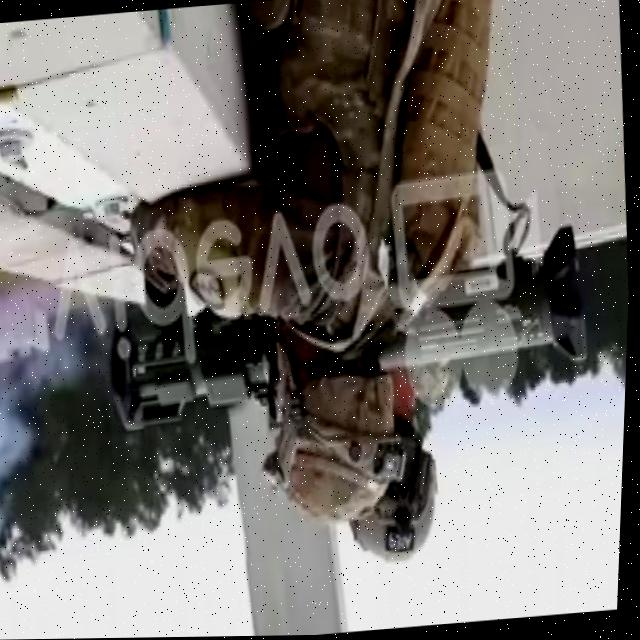rocket: (109, 236, 596, 448)
